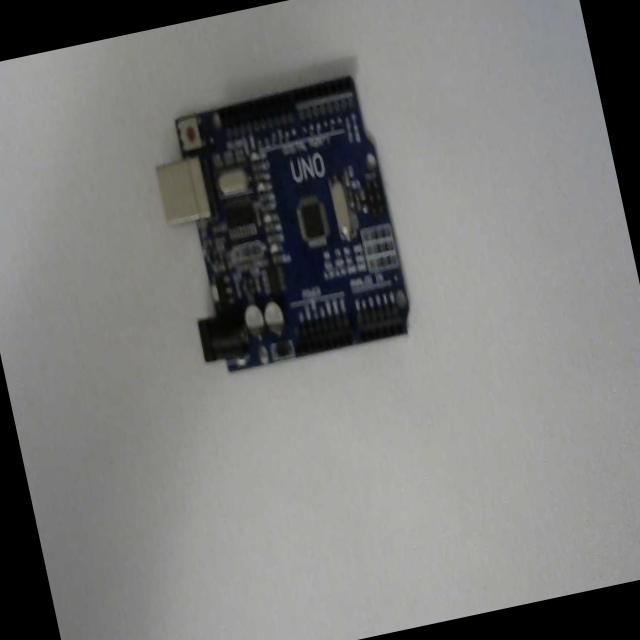arduino: (144, 64, 423, 383)
